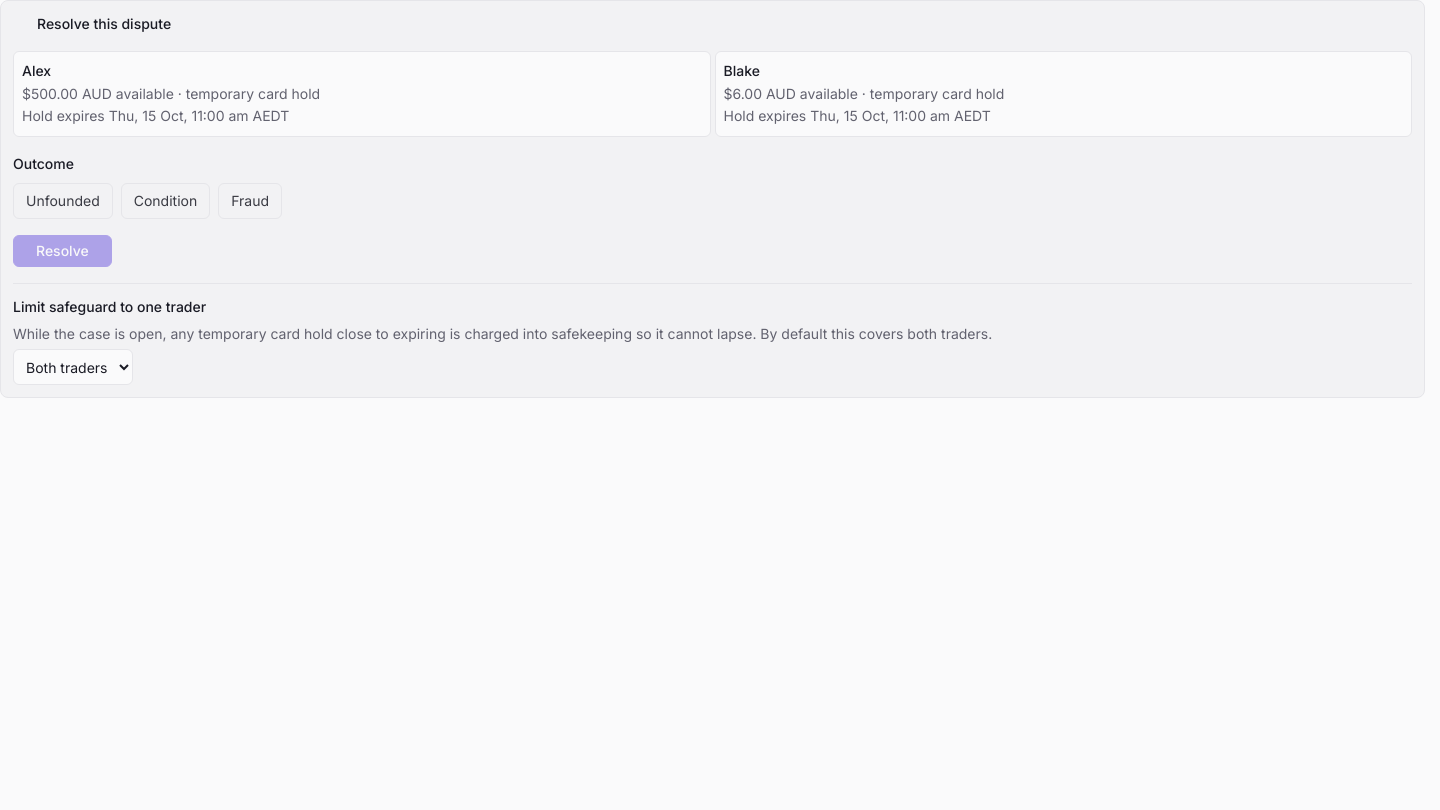
Scenario: TradeDisputeActions › defaults condition compensation to the smaller of the default and what the collateral can pay
Click the button "Condition" at (165, 201), box [121, 183, 210, 219]
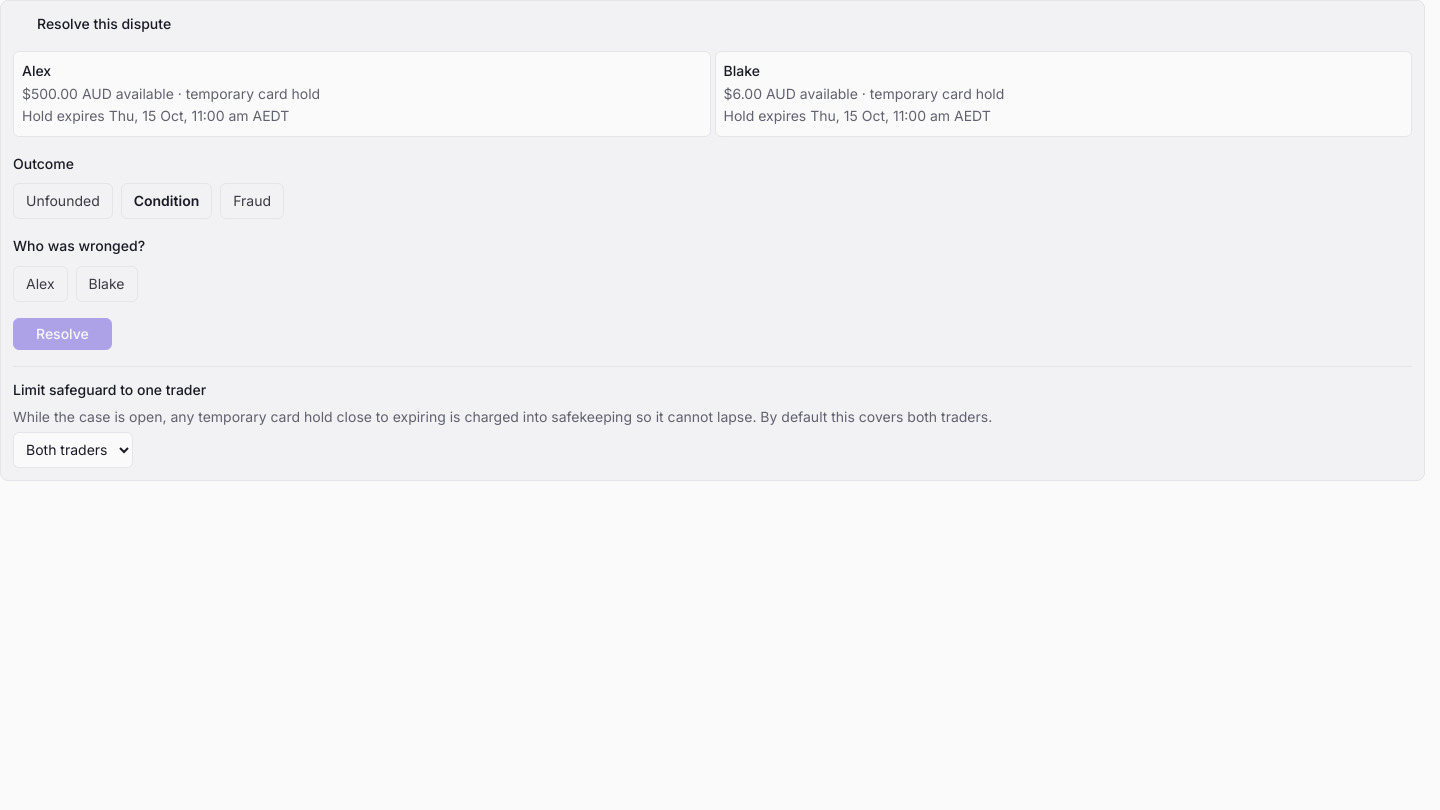
Click the button "Alex" at (40, 284), box [13, 266, 68, 302]
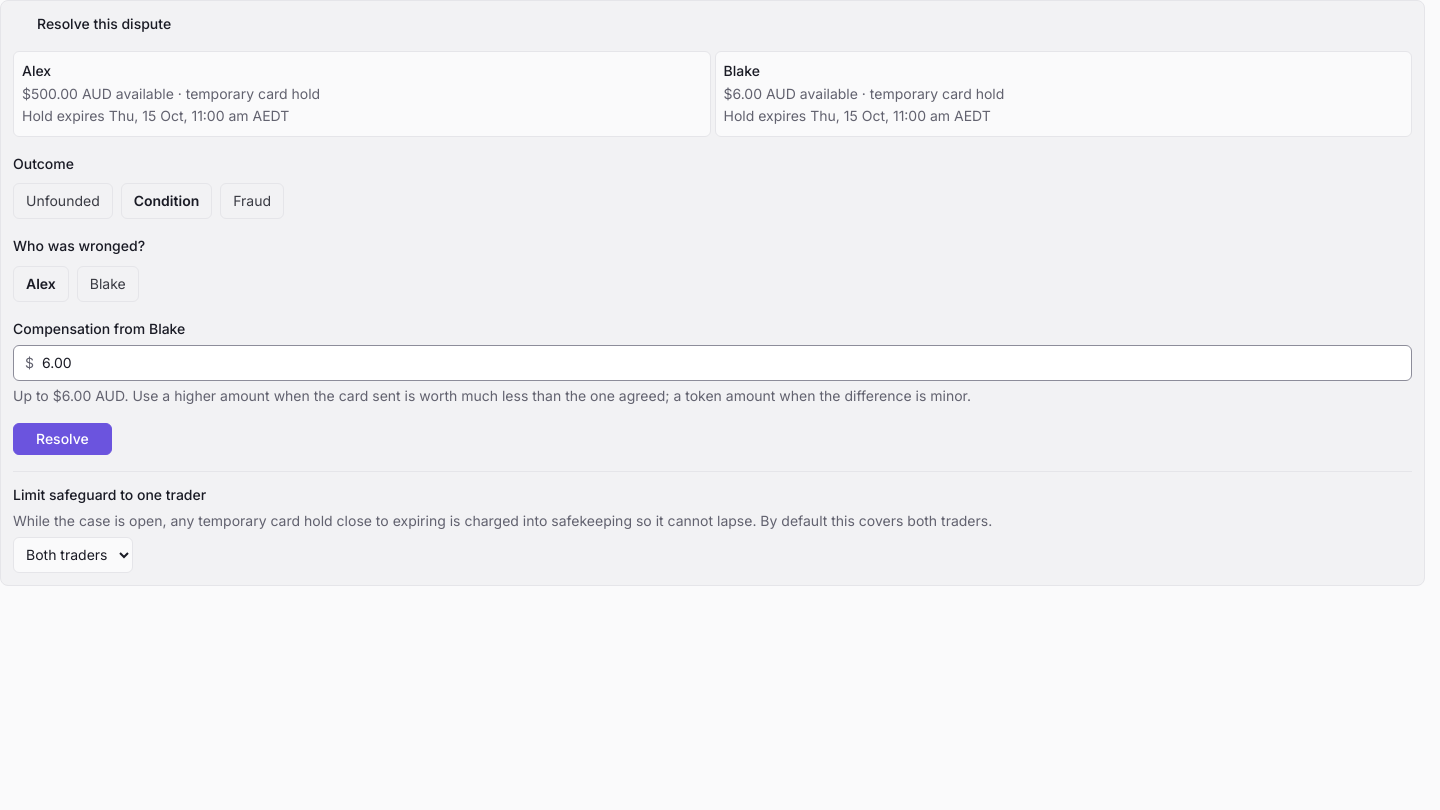
Now the number field labelled "Compensation from Blake" holds "6.00", box [13, 344, 1412, 380]
